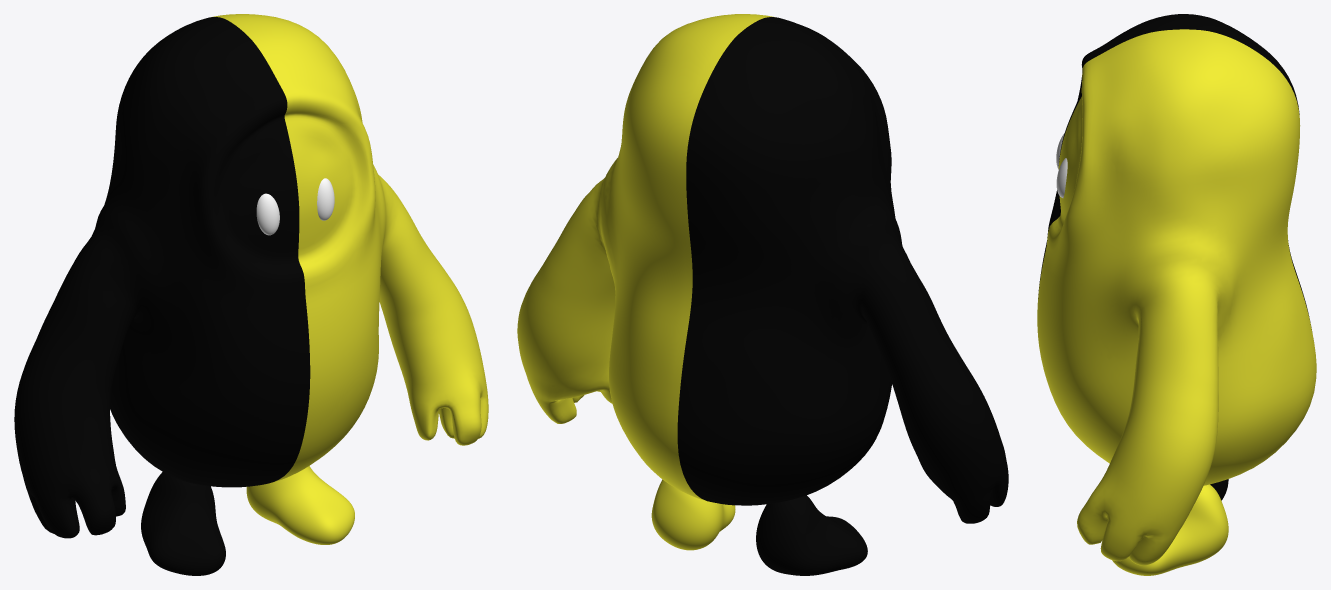
The picture shows the model from 3 angles, left to right: view 1: azimuth 30°, elevation 25°; view 2: azimuth 150°, elevation 25°; view 3: azimuth 270°, elevation 25°; orthographic projection. The views are drawn at different scales.
Visible parts, largest first — view 1: fall_guy_1, fall_guy, feet_left, feet__right, eyes; view 2: fall_guy_1, fall_guy, feet_left, feet__right; view 3: fall_guy, feet__right, fall_guy_1, eyes.
Boxes of the visible parts, <box> form: fall_guy_1: <box>14,17,310,538</box>; fall_guy: <box>211,14,488,481</box>; feet_left: <box>141,472,225,575</box>; feet__right: <box>246,466,354,544</box>; eyes: <box>256,178,334,235</box>; fall_guy_1: <box>677,17,1008,523</box>; fall_guy: <box>517,14,774,500</box>; feet_left: <box>756,495,867,575</box>; feet__right: <box>651,479,735,550</box>; fall_guy: <box>1037,29,1316,565</box>; feet__right: <box>1112,484,1228,575</box>; fall_guy_1: <box>1038,14,1311,329</box>; eyes: <box>1056,133,1067,197</box>.
Bounding box in the file's own units: 0.1231 × 0.1338 × 0.0667.
